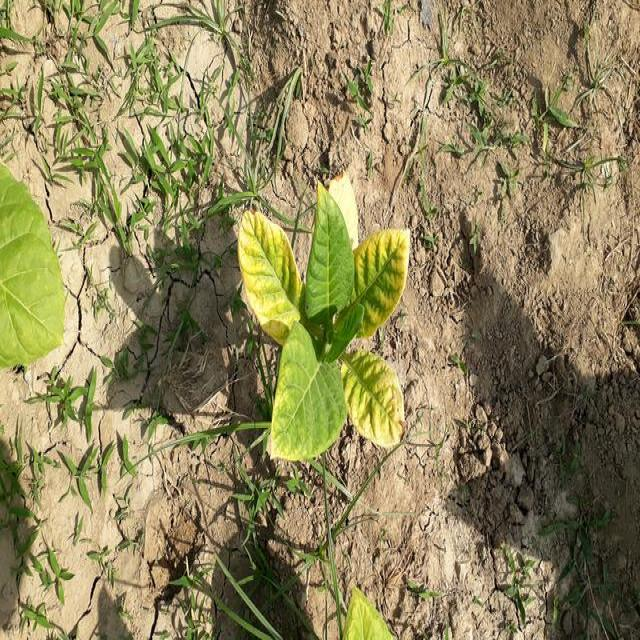crop: (235, 184, 407, 468)
